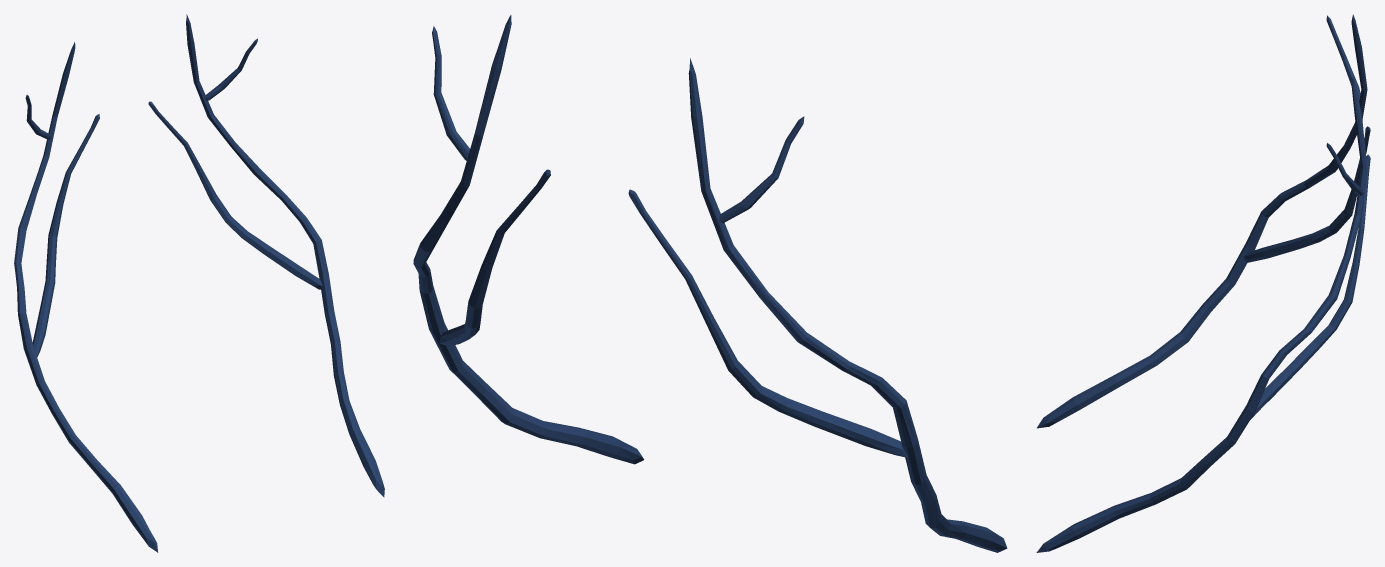
The model's file is Vena Occipital.FBX.
3 renders of one model, left to right at view 1: azimuth 30°, elevation 25°; view 2: azimuth 150°, elevation 25°; view 3: azimuth 270°, elevation 25°, orthographic. The views are drawn at different scales.
Visible parts, largest first — view 1: CS_Veins; view 2: CS_Veins; view 3: CS_Veins.
Boxes of the visible parts, x1,y1,x2,y2 form: CS_Veins: [14, 14, 384, 552]; CS_Veins: [413, 15, 1007, 552]; CS_Veins: [1036, 14, 1370, 552].
Size of the model in its own units: 325 by 404 by 274.
